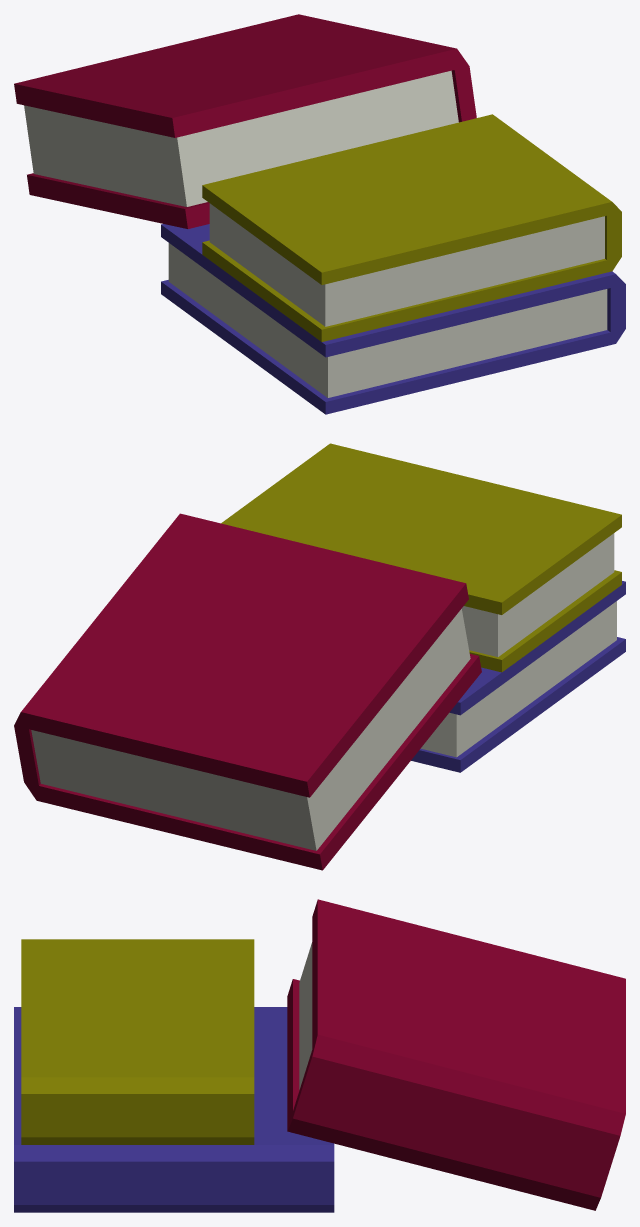
The model's file is SM_book pile 01.fbx.
3 renders of one model, top to bottom at view 1: azimuth 30°, elevation 25°; view 2: azimuth 150°, elevation 25°; view 3: azimuth 270°, elevation 25°, orthographic. The views are drawn at different scales.
Parts seen in each view (by area): view 1: pCube22; view 2: pCube22; view 3: pCube22.
Part boxes in pixels (x1,y1,x2,y2): pCube22: (14,14,625,414); pCube22: (14,443,625,870); pCube22: (14,899,625,1212).
Bounding box in the file's own units: 2.11 × 1.22 × 3.82.
